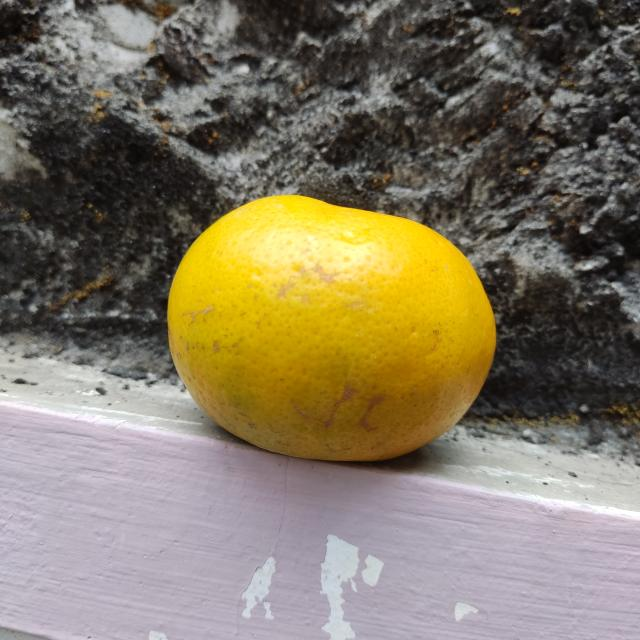orange: (167, 190, 498, 465)
